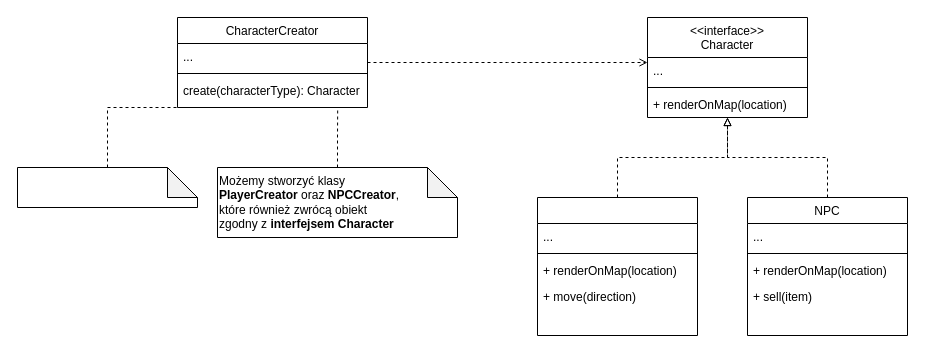
Image size: 925x353. Some labels were removed from this diagram. The box of each missing label's shape, as (x1, y1, x2, y2) in pixels:
Player: (536, 196, 698, 336)
return new Player() return new NPC(): (16, 166, 198, 208)
